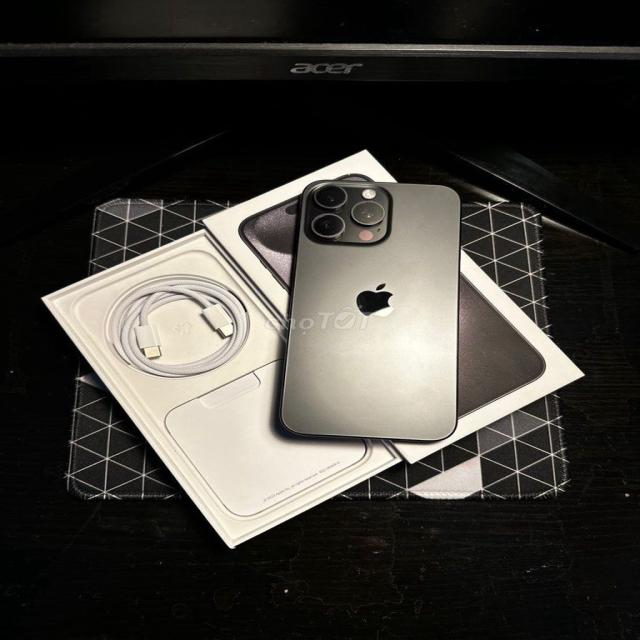gen_15: (264, 160, 478, 470)
